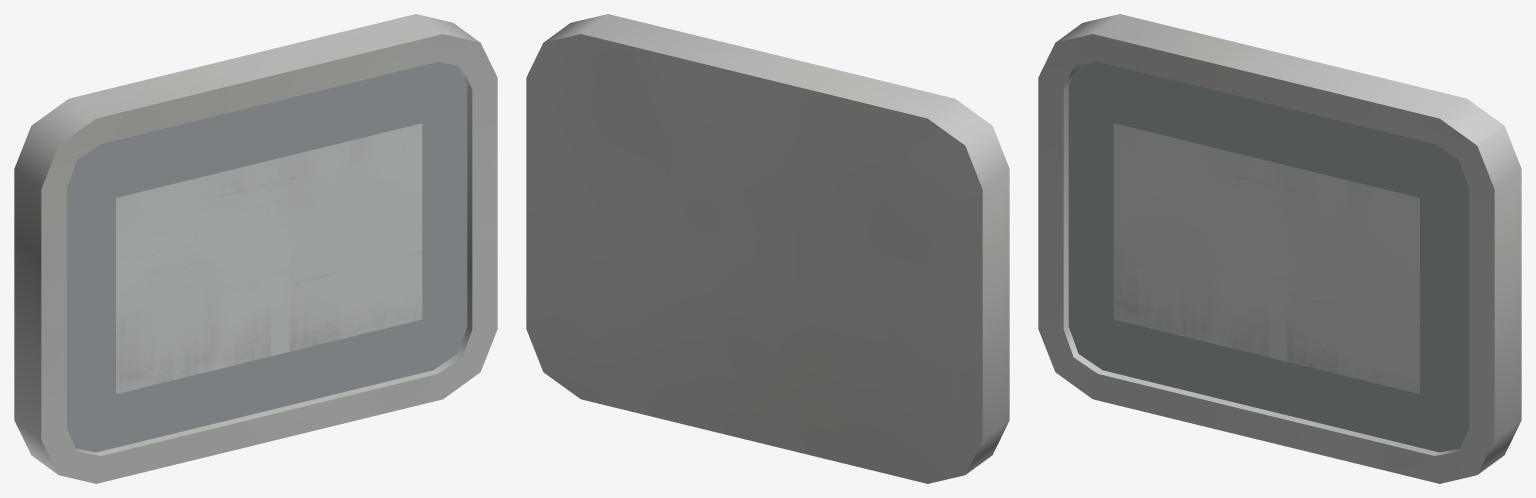
The model's file is FloorPanel05_Art.glb.
3 renders of one model, left to right at view 1: azimuth 30°, elevation 25°; view 2: azimuth 150°, elevation 25°; view 3: azimuth 330°, elevation 25°, orthographic.
Visible parts, largest first — view 1: FloorPanel05_Art; view 2: FloorPanel05_Art; view 3: FloorPanel05_Art.
Boxes of the visible parts, <box> form: FloorPanel05_Art: <box>14,14,497,483</box>; FloorPanel05_Art: <box>526,14,1009,483</box>; FloorPanel05_Art: <box>1038,14,1521,483</box>.
Size of the model in its own units: 1.19 by 0.9103 by 0.1233.
2 materials, 2 textured.
